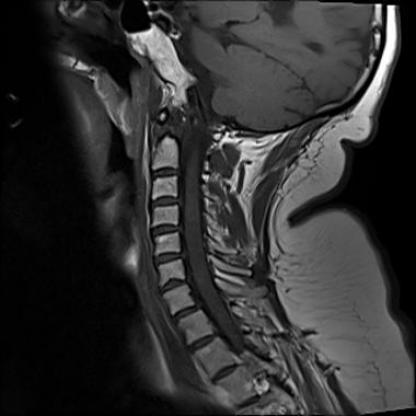Disc Protrusionrotation: (151, 250, 187, 265), (149, 195, 183, 210), (158, 276, 190, 291)
